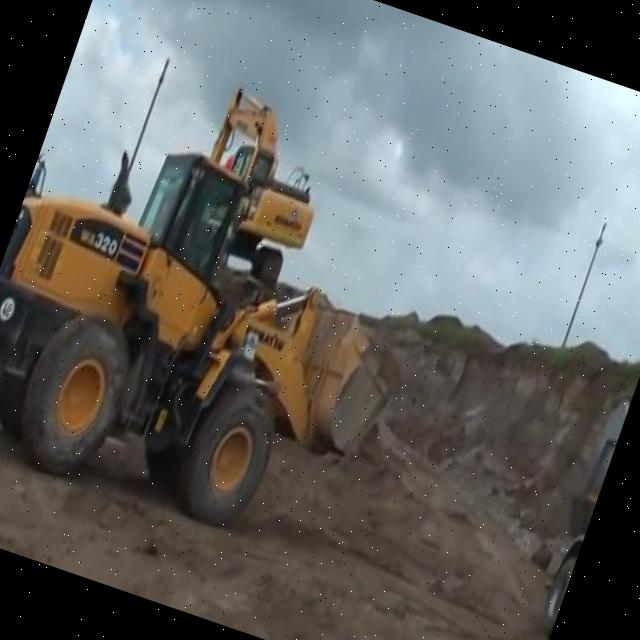Excavator: (176, 84, 346, 289)
Loader: (0, 102, 446, 568)
